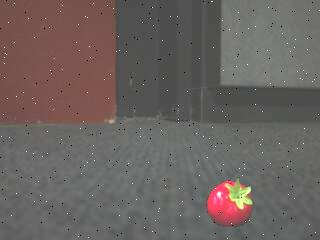Tomato: (204, 175, 255, 227)
